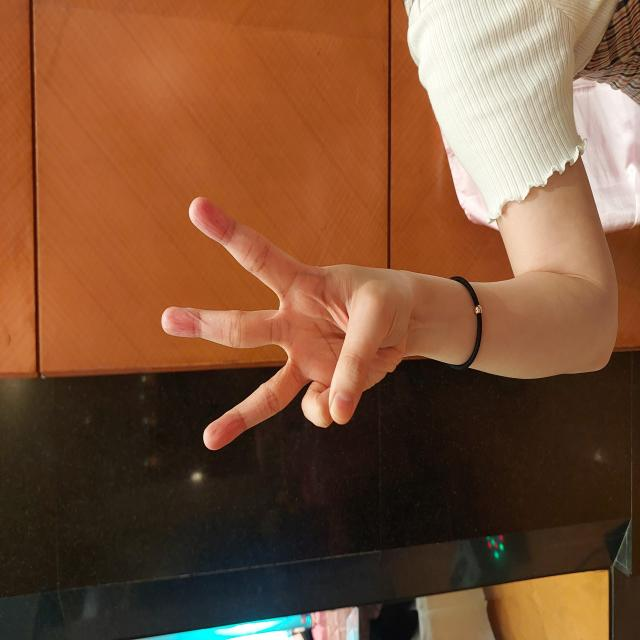W: (188, 158, 447, 418)
